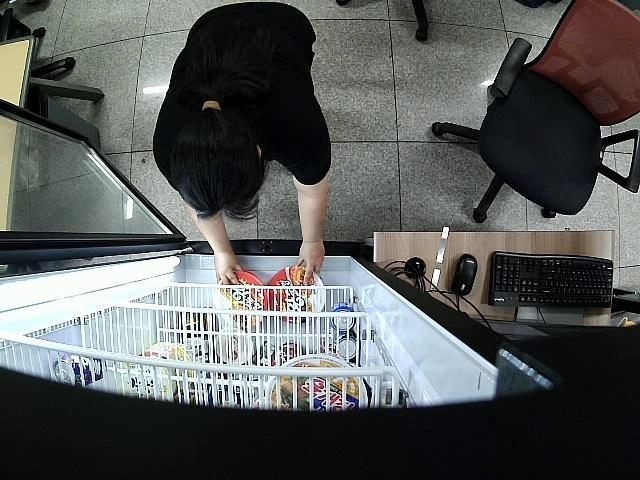10_wangTtukkeong: (268, 268, 326, 322), (216, 270, 266, 326)
